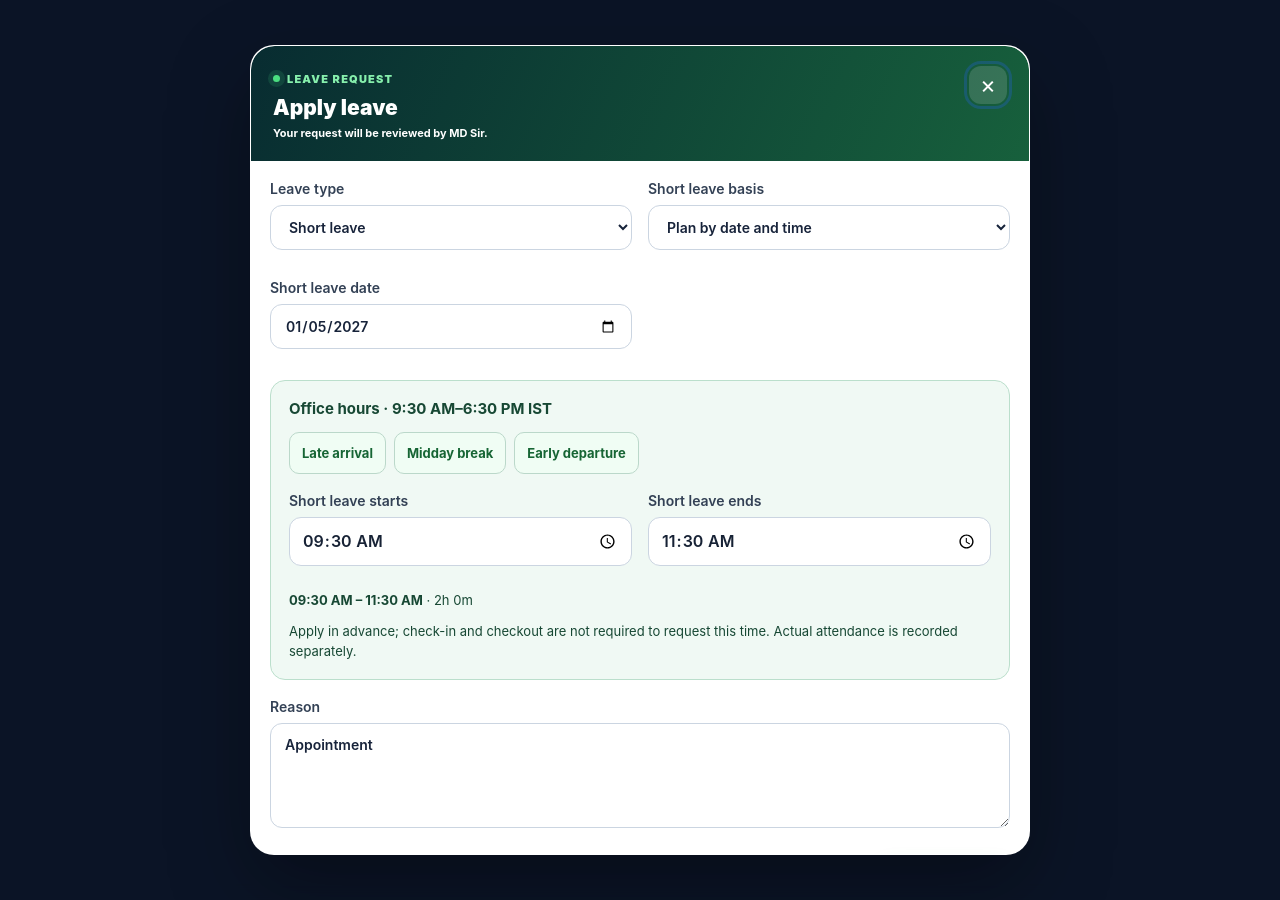
Test: planned short leave blocks invalid or full-day time windows
Step 1. Replace the text in the time field labelled "Short leave ends" with "18:30" → (820, 541), box [648,517,991,566]
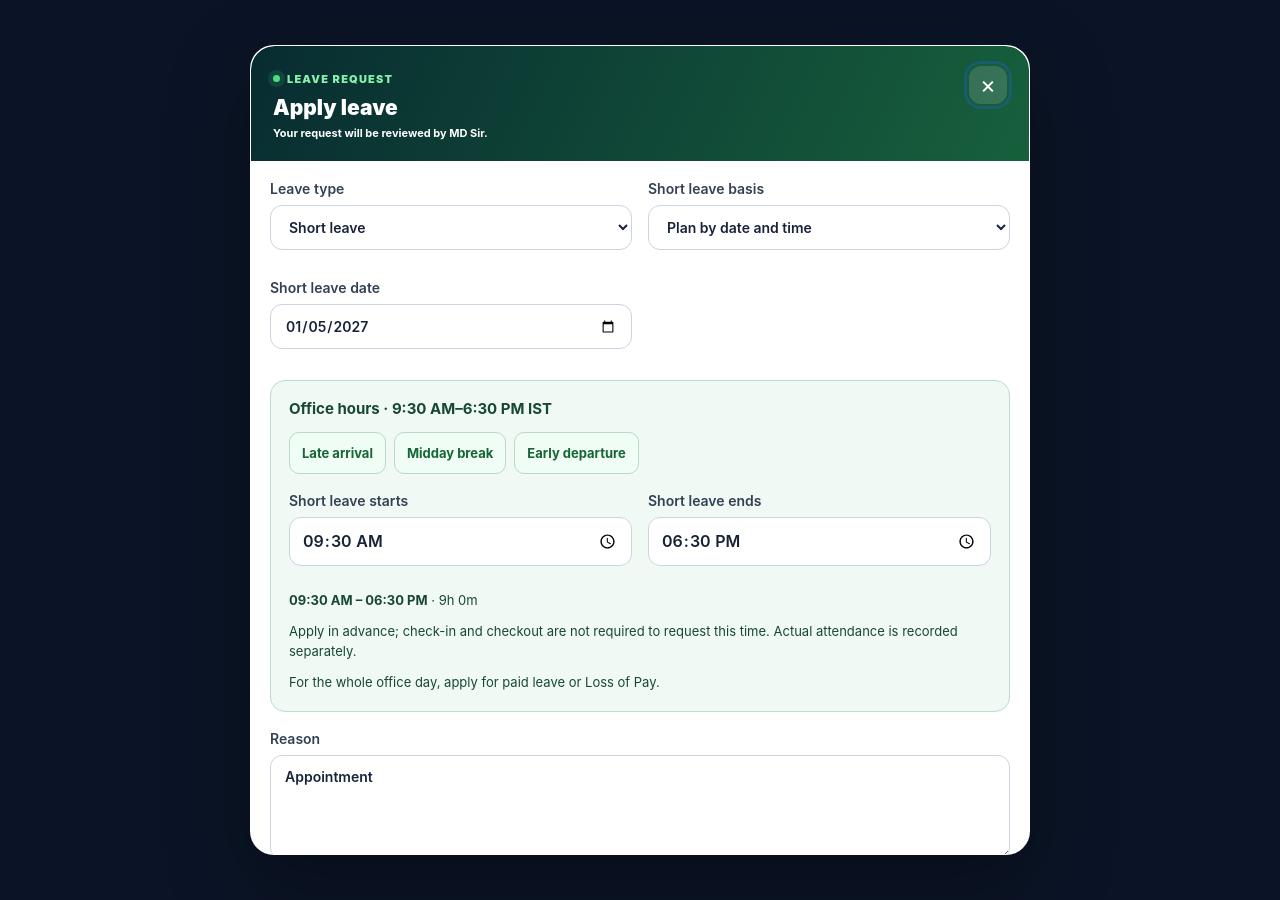
Expected: the message shows "whole office day", [289,674,660,690]
Step 2. Replace the text in the time field labelled "Short leave starts" with "19:00" → (460, 541), box [289,517,632,566]
(page scrolled)
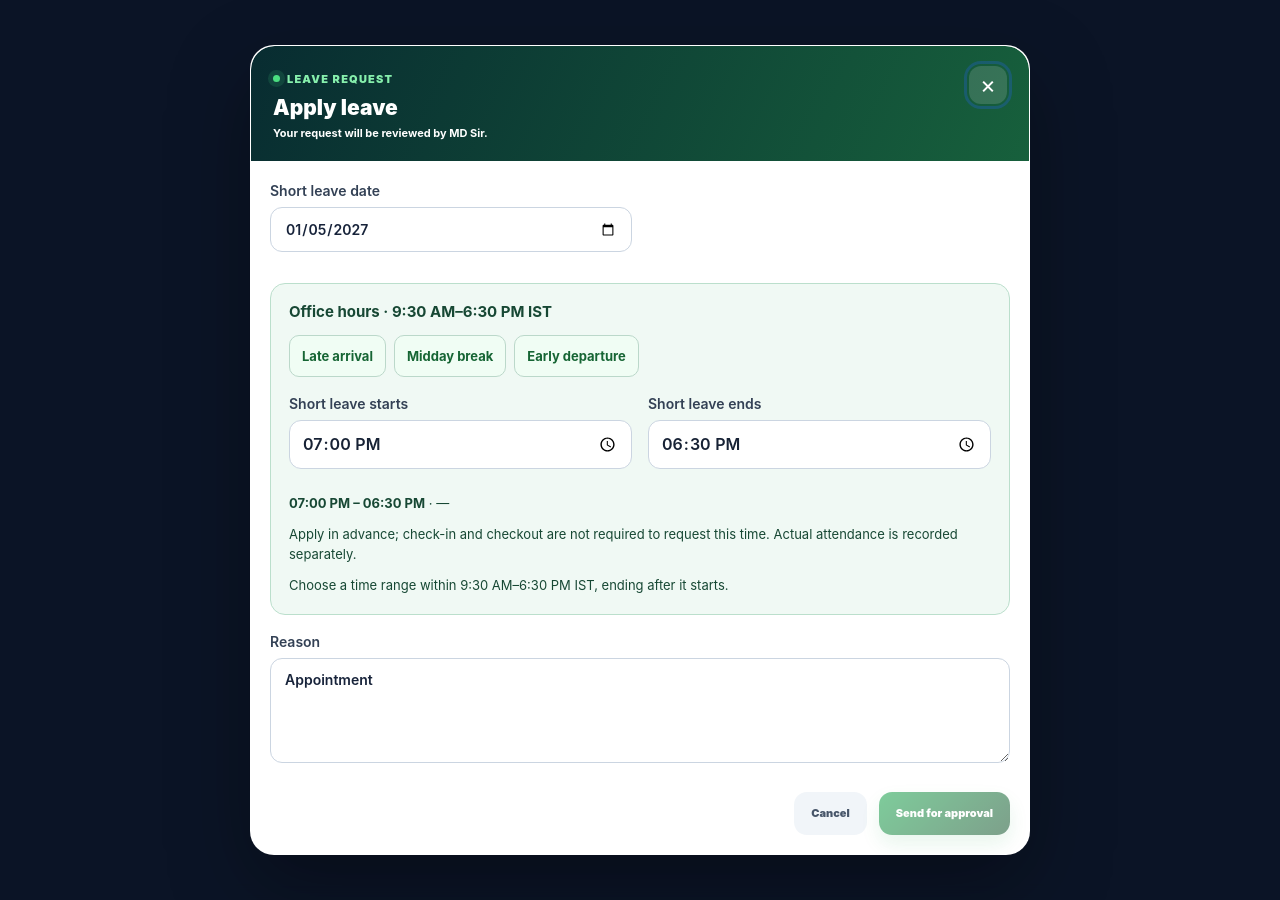
Expected: the button "Send for approval" is disabled, [879,792,1010,835]
